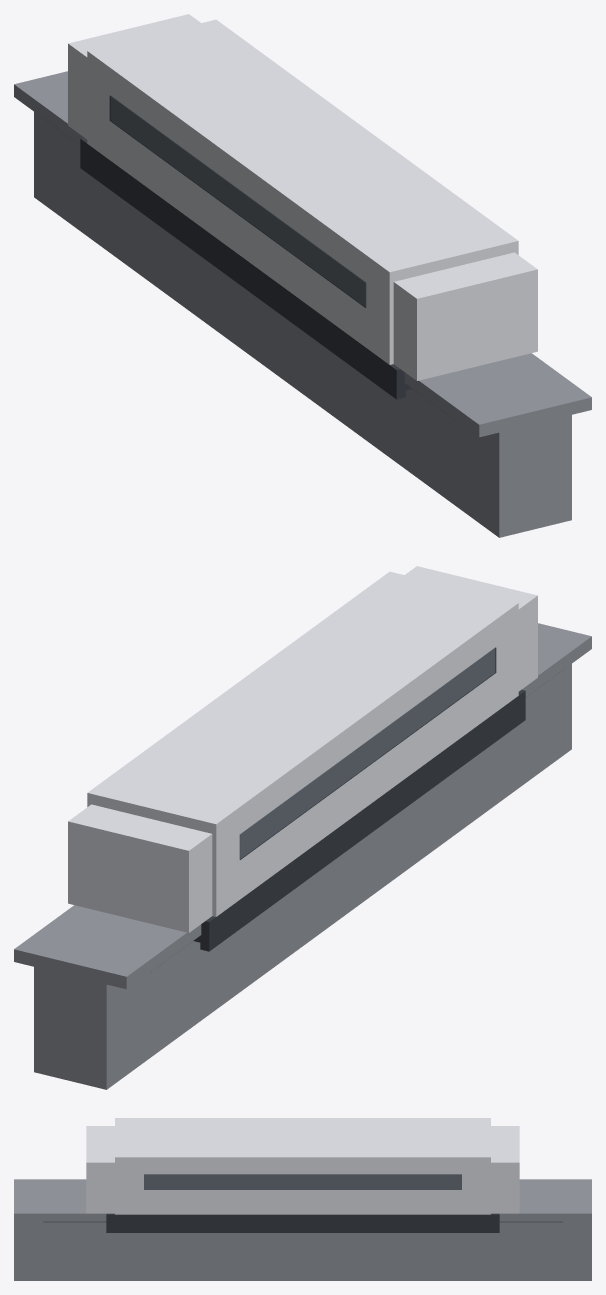
The model's file is maglev_train_ems.obj.
3 views of the same model, one above another, from view 1: azimuth 30°, elevation 25°; view 2: azimuth 150°, elevation 25°; view 3: azimuth 270°, elevation 25° (orthographic). The views are drawn at different scales.
Parts seen in each view (by area): view 1: Coche_Carroceria_Principal, Viga_Guia_Nucleo, Coche_Frontal_Aerodinamico, Faldon_Lateral_Izquierdo, Ventanas_Laterales_Izq, Viga_Guia_Pestana, Coche_Trasera_Aerodinamica; view 2: Coche_Carroceria_Principal, Viga_Guia_Nucleo, Coche_Trasera_Aerodinamica, Faldon_Lateral_Izquierdo, Ventanas_Laterales_Izq, Viga_Guia_Pestana, Coche_Frontal_Aerodinamico; view 3: Coche_Carroceria_Principal, Viga_Guia_Nucleo, Faldon_Lateral_Derecho, Viga_Guia_Pestana, Ventanas_Laterales_Der, Coche_Frontal_Aerodinamico, Coche_Trasera_Aerodinamica, Estator_LSM_Derecho.
Boxes of the visible parts, <box> form: Coche_Carroceria_Principal: <box>87,19,518,364</box>; Viga_Guia_Nucleo: <box>34,71,571,537</box>; Coche_Frontal_Aerodinamico: <box>393,252,537,380</box>; Faldon_Lateral_Izquierdo: <box>80,137,405,399</box>; Ventanas_Laterales_Izq: <box>109,95,366,307</box>; Viga_Guia_Pestana: <box>14,71,591,437</box>; Coche_Trasera_Aerodinamica: <box>68,14,200,139</box>; Coche_Carroceria_Principal: <box>87,571,518,916</box>; Viga_Guia_Nucleo: <box>34,623,571,1089</box>; Coche_Trasera_Aerodinamica: <box>68,804,212,932</box>; Faldon_Lateral_Izquierdo: <box>200,689,525,951</box>; Ventanas_Laterales_Izq: <box>239,647,496,859</box>; Viga_Guia_Pestana: <box>14,625,591,989</box>; Coche_Frontal_Aerodinamico: <box>405,566,537,691</box>; Coche_Carroceria_Principal: <box>115,1118,490,1214</box>; Viga_Guia_Nucleo: <box>14,1185,591,1280</box>; Faldon_Lateral_Derecho: <box>106,1213,499,1232</box>; Viga_Guia_Pestana: <box>14,1179,591,1221</box>; Ventanas_Laterales_Der: <box>144,1174,461,1189</box>; Coche_Frontal_Aerodinamico: <box>86,1126,114,1213</box>; Coche_Trasera_Aerodinamica: <box>491,1126,519,1213</box>; Estator_LSM_Derecho: <box>43,1221,562,1222</box>.
Bounding box in the file's own units: 3.24 × 5.05 × 20.
